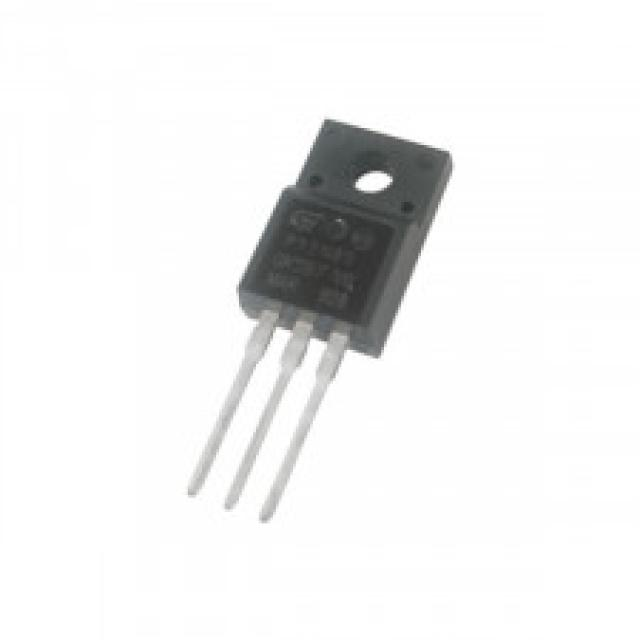Transistor: (183, 119, 449, 525)
